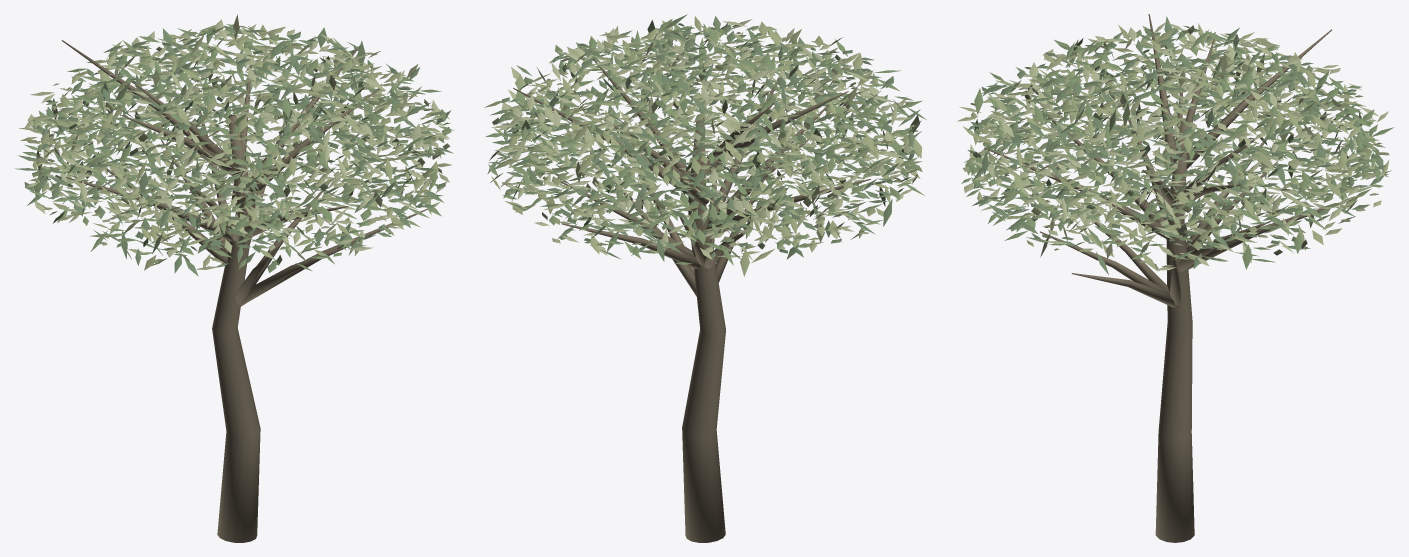
The model's file is tree.glb.
3 views of the same model, side by side, from view 1: azimuth 30°, elevation 25°; view 2: azimuth 150°, elevation 25°; view 3: azimuth 270°, elevation 25° (orthographic).
Visible parts, largest first — view 1: Olive leaves 2, Olive leaves 1, Olive leaves 0, Olive leaves 3, Olive bark; view 2: Olive leaves 1, Olive leaves 2, Olive leaves 0, Olive leaves 3, Olive bark; view 3: Olive leaves 2, Olive leaves 0, Olive leaves 1, Olive leaves 3, Olive bark.
Part boxes in pixels (left/top/right/bottom): Olive leaves 2: left=15, top=25, right=453, bottom=276; Olive leaves 1: left=20, top=25, right=451, bottom=270; Olive leaves 0: left=22, top=24, right=454, bottom=270; Olive leaves 3: left=19, top=14, right=449, bottom=269; Olive bark: left=62, top=40, right=427, bottom=542; Olive leaves 1: left=484, top=16, right=922, bottom=276; Olive leaves 2: left=487, top=14, right=926, bottom=261; Olive leaves 0: left=485, top=19, right=924, bottom=265; Olive leaves 3: left=491, top=19, right=921, bottom=260; Olive bark: left=513, top=59, right=870, bottom=542; Olive leaves 2: left=961, top=16, right=1391, bottom=274; Olive leaves 0: left=965, top=26, right=1393, bottom=269; Olive leaves 1: left=957, top=23, right=1389, bottom=271; Olive leaves 3: left=963, top=21, right=1388, bottom=270; Olive bark: left=984, top=14, right=1357, bottom=542.
Bounding box in the file's own units: 3.09 × 3.93 × 3.09.
